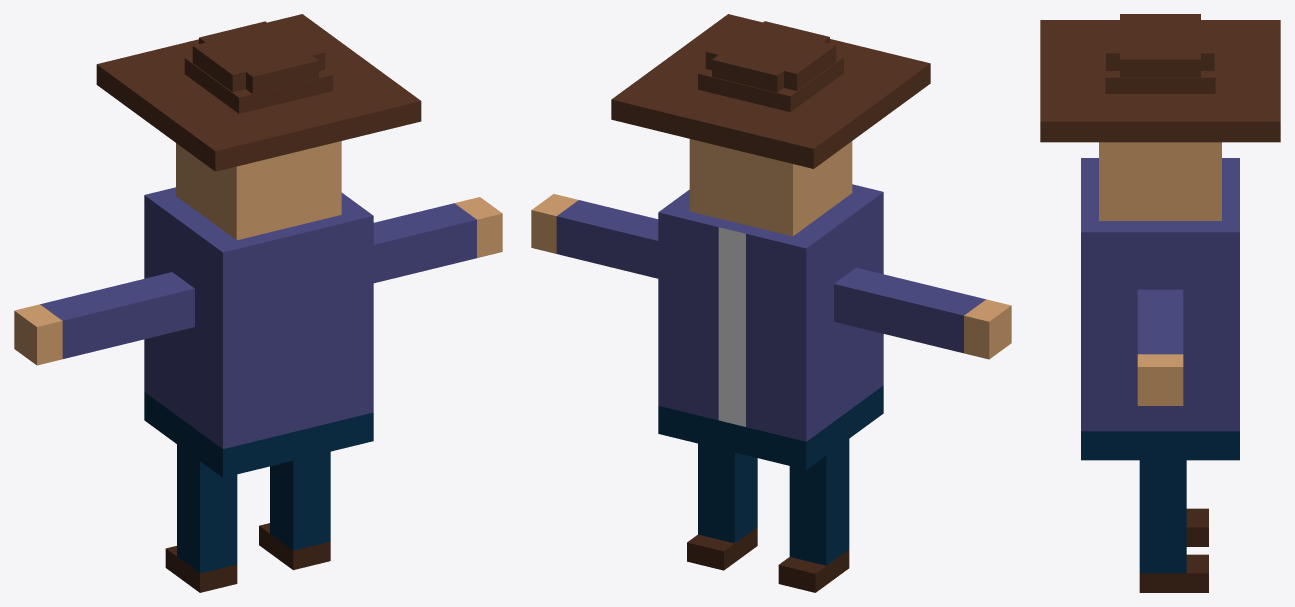
The model's file is Player.fbx.
The picture shows the model from 3 angles, left to right: view 1: azimuth 30°, elevation 25°; view 2: azimuth 150°, elevation 25°; view 3: azimuth 270°, elevation 25°; orthographic projection. The views are drawn at different scales.
Visible parts, largest first — view 1: pCube26; view 2: pCube26; view 3: pCube26.
Boxes of the visible parts, bbox=[...] form: pCube26: bbox=[14, 14, 502, 592]; pCube26: bbox=[531, 14, 1011, 592]; pCube26: bbox=[1040, 14, 1280, 592].
Size of the model in its own units: 4.7 by 5.01 by 2.08.
